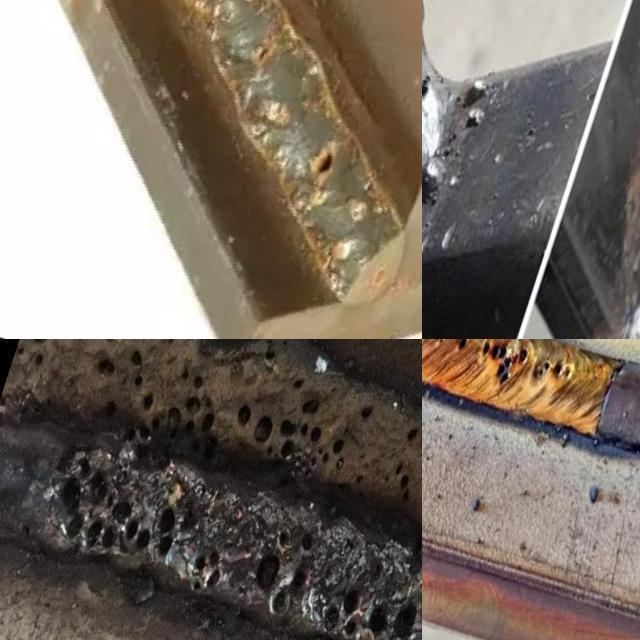defect: (94, 339, 222, 466), (52, 451, 182, 567), (233, 378, 347, 478), (246, 519, 321, 624), (319, 587, 422, 640), (478, 339, 532, 393), (177, 550, 225, 603), (390, 456, 417, 508), (16, 339, 50, 369), (255, 339, 279, 379), (533, 359, 573, 381), (315, 144, 336, 176), (255, 36, 275, 65), (404, 414, 422, 444), (358, 395, 375, 425), (454, 339, 468, 356), (437, 339, 447, 346)
